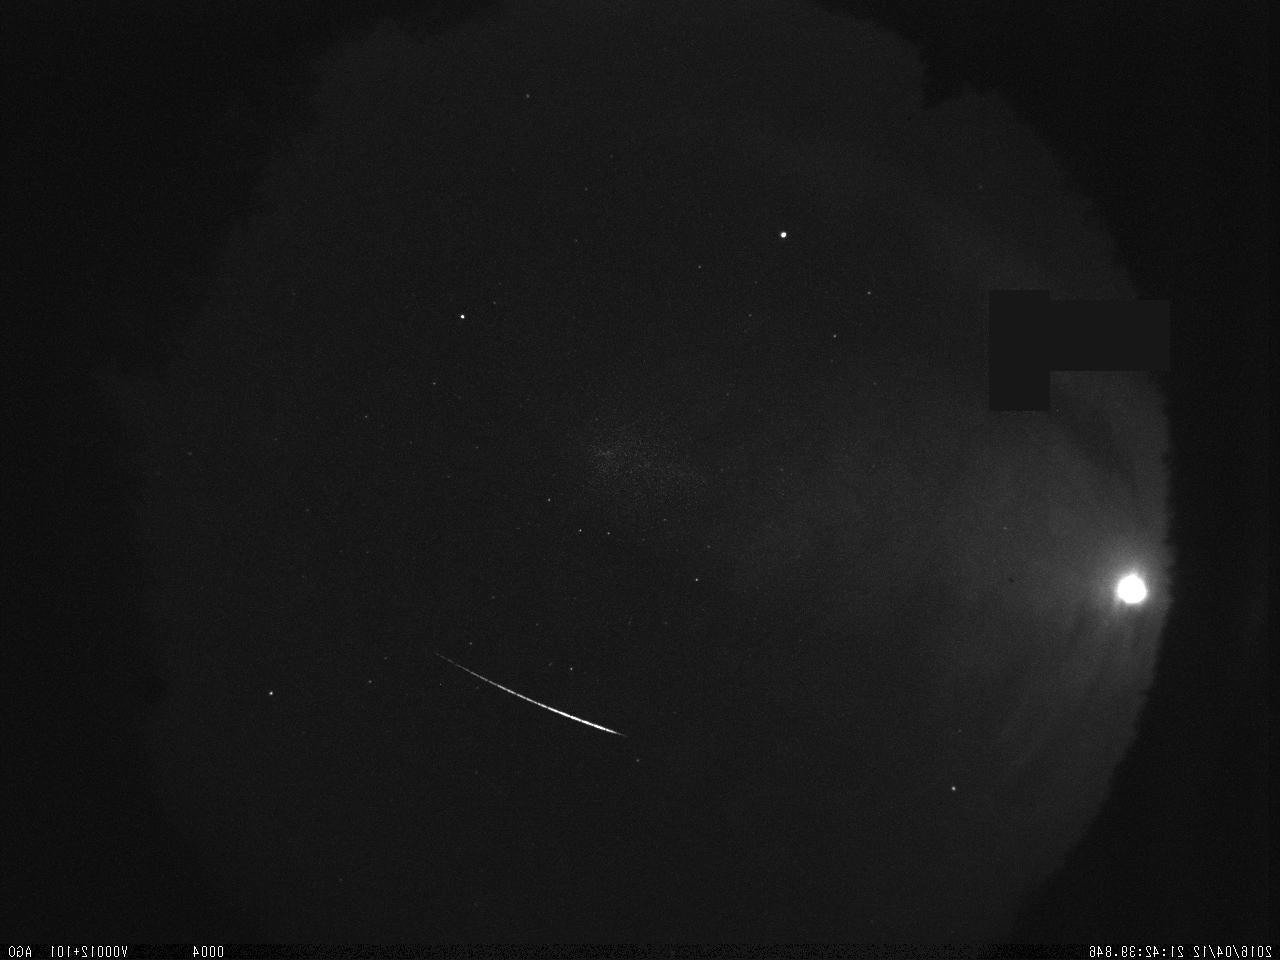meteor: (412, 619, 636, 768)
